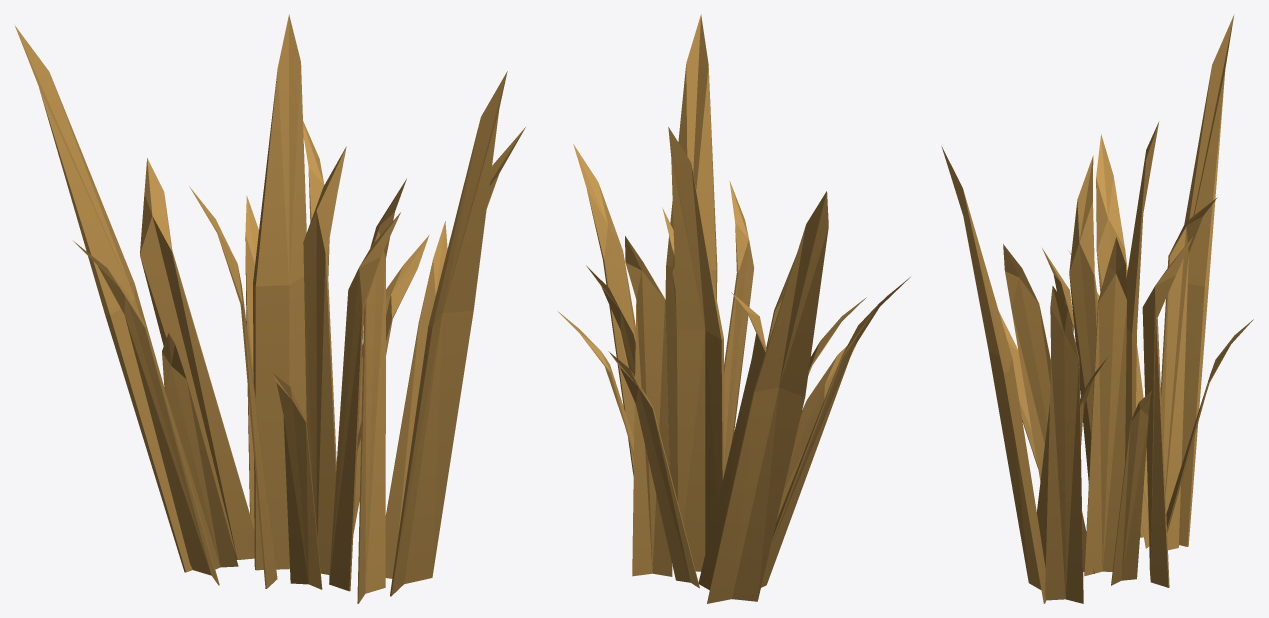
File: Env_Grass_Patch_Yellow_03.obj
3 views of the same model, side by side, from view 1: azimuth 30°, elevation 25°; view 2: azimuth 150°, elevation 25°; view 3: azimuth 270°, elevation 25° (orthographic). The views are drawn at different scales.
Visible parts, largest first — view 1: Env_Grass_Patch_Yellow_03; view 2: Env_Grass_Patch_Yellow_03; view 3: Env_Grass_Patch_Yellow_03.
Boxes of the visible parts, <box> form: Env_Grass_Patch_Yellow_03: <box>15,14,525,603</box>; Env_Grass_Patch_Yellow_03: <box>558,14,910,603</box>; Env_Grass_Patch_Yellow_03: <box>941,14,1253,603</box>.
Size of the model in its own units: 0.3022 by 0.3709 by 0.2268.
Materials: 1 (1 with a texture image).
